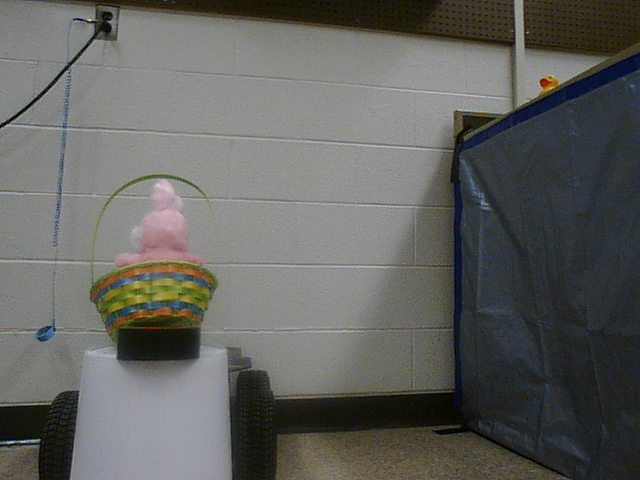bunny: (80, 166, 227, 357)
